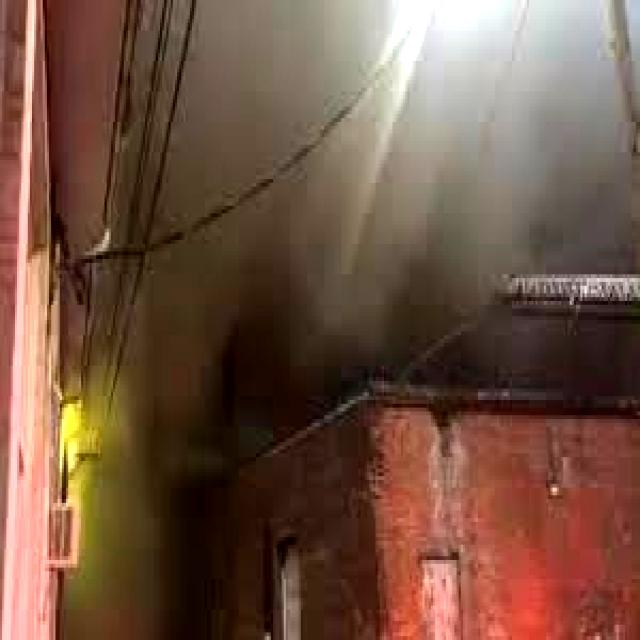Smoke: (221, 0, 635, 404), (74, 98, 259, 640)
